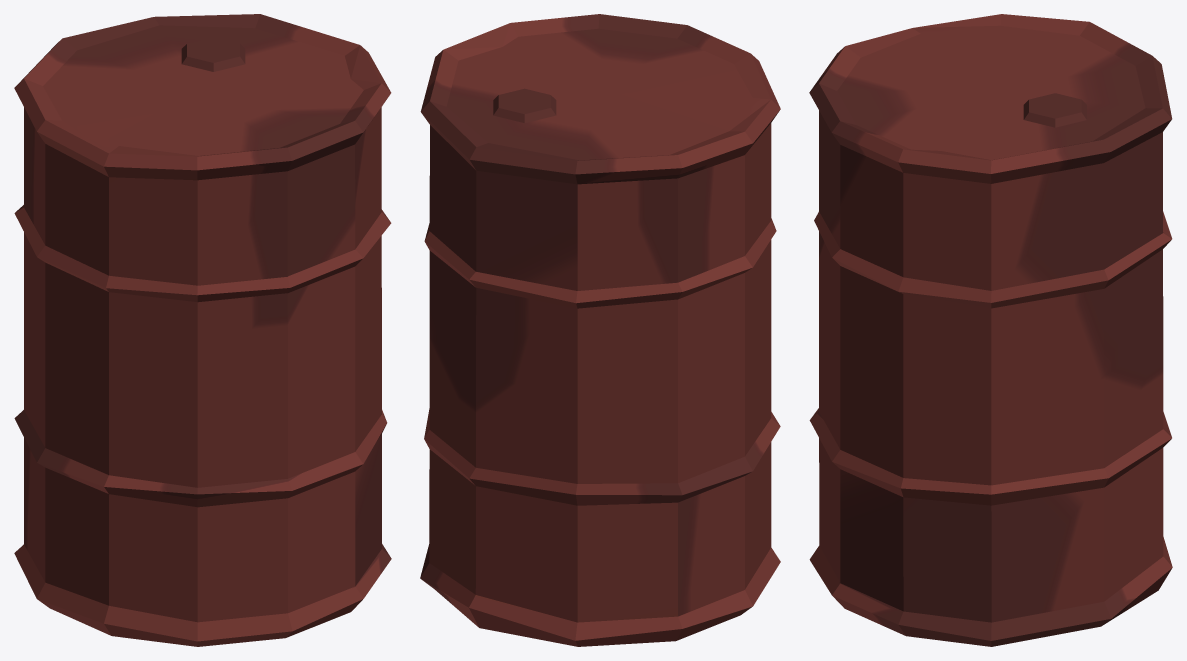
File: SM_Prop_Barrel_Oil_01.obj
3 renders of one model, left to right at view 1: azimuth 30°, elevation 25°; view 2: azimuth 150°, elevation 25°; view 3: azimuth 270°, elevation 25°, orthographic.
Visible parts, largest first — view 1: SM_Prop_Barrel_Oil_01_0; view 2: SM_Prop_Barrel_Oil_01_0; view 3: SM_Prop_Barrel_Oil_01_0.
Part boxes in pixels (x1,y1,x2,y2): SM_Prop_Barrel_Oil_01_0: (14,14,391,646); SM_Prop_Barrel_Oil_01_0: (420,14,780,646); SM_Prop_Barrel_Oil_01_0: (809,14,1172,646).
Size of the model in its own units: 0.7261 by 1.05 by 0.7052.
1 material, 1 textured.
